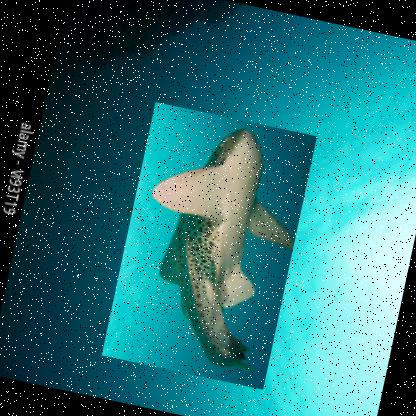zebra_shark: (101, 101, 316, 390)
